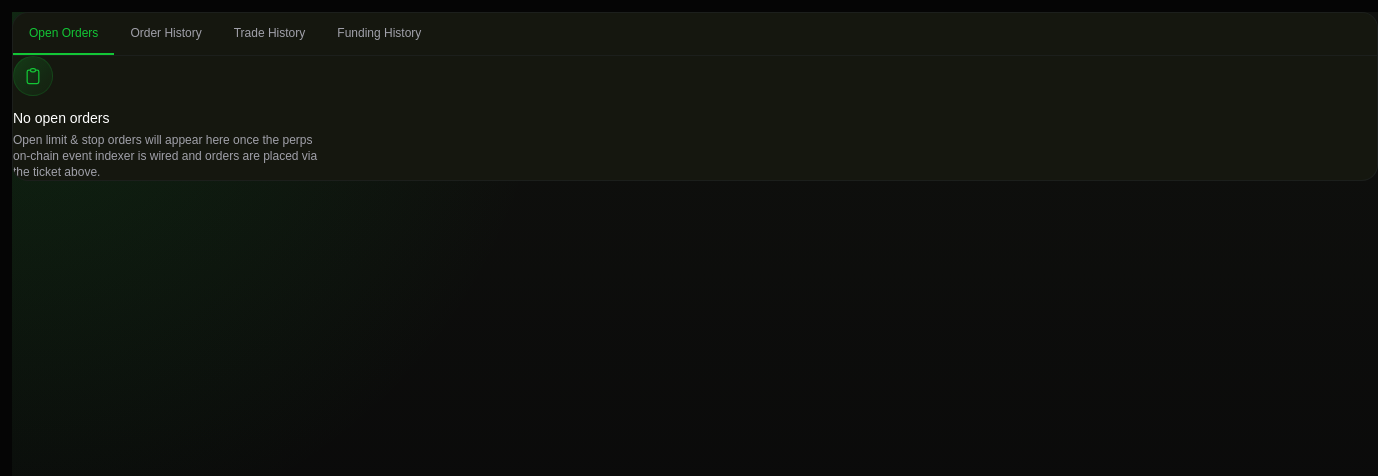
Test: PerpsHistoryTabs › shows the funding-history empty state on click without rendering fake rows
This screenshot has width=1378, height=476.
Click the button "Funding History": [379, 34] box [321, 13, 437, 55]
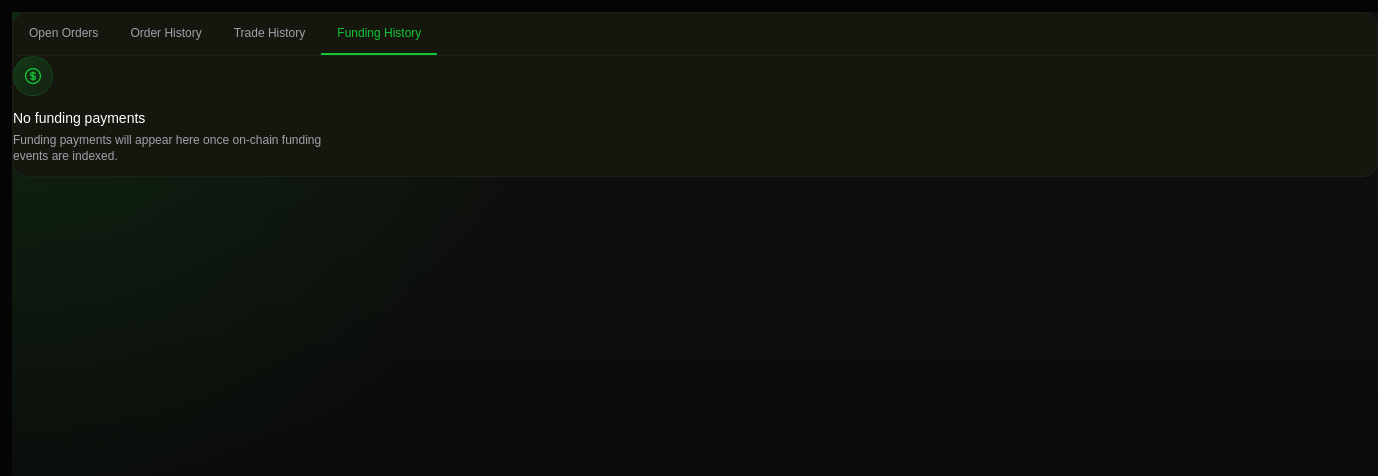
Expected: the text "No funding payments" is shown, [13, 110, 145, 126]
